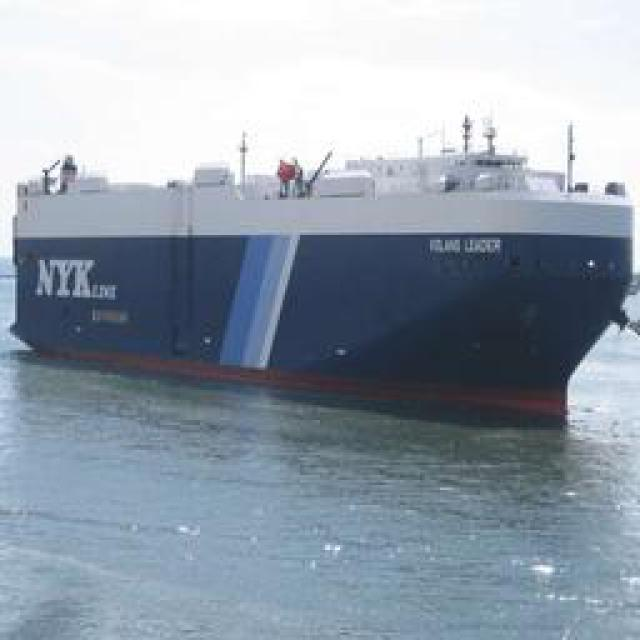Ship: (25, 130, 630, 408)
